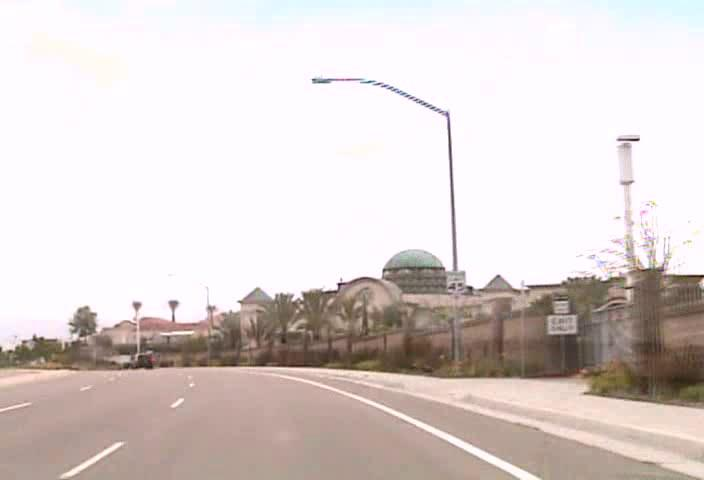speedLimit45: (445, 270, 466, 293)
